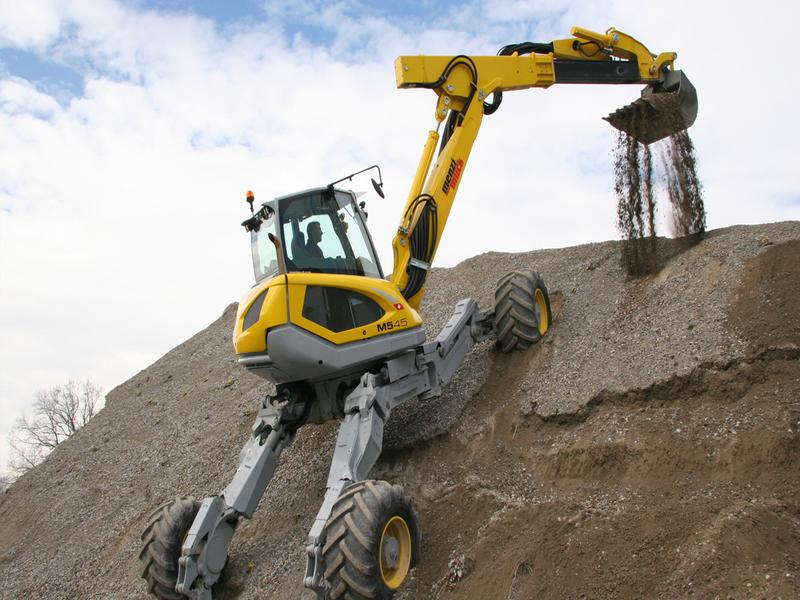shovel: (136, 17, 701, 600)
